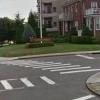Crosswalk: (4, 47, 100, 89)
